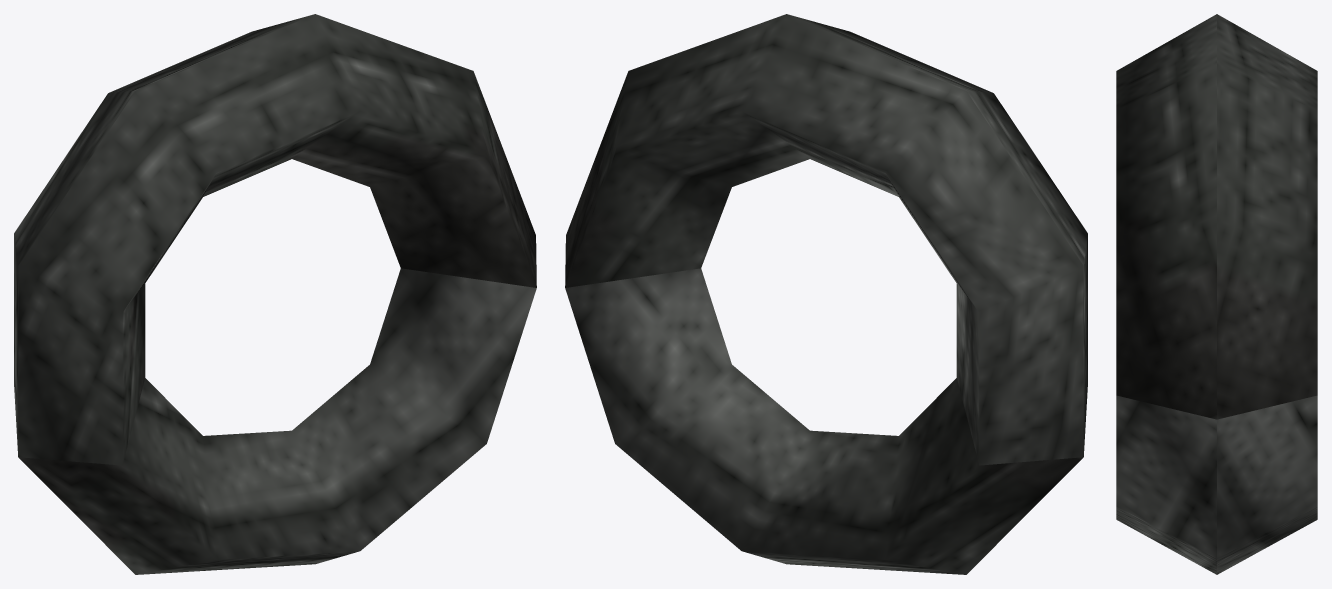
File: wheel.fbx
3 renders of one model, left to right at view 1: azimuth 30°, elevation 25°; view 2: azimuth 150°, elevation 25°; view 3: azimuth 270°, elevation 25°, orthographic. The views are drawn at different scales.
Visible parts, largest first — view 1: wheel; view 2: wheel; view 3: wheel.
Boxes of the visible parts, x1,y1,x2,y2 form: wheel: (14, 14, 536, 574); wheel: (565, 14, 1087, 574); wheel: (1116, 14, 1317, 574).
Bounding box in the file's own units: 242 × 246 × 87.95.
Materials: 1 (1 with a texture image).
